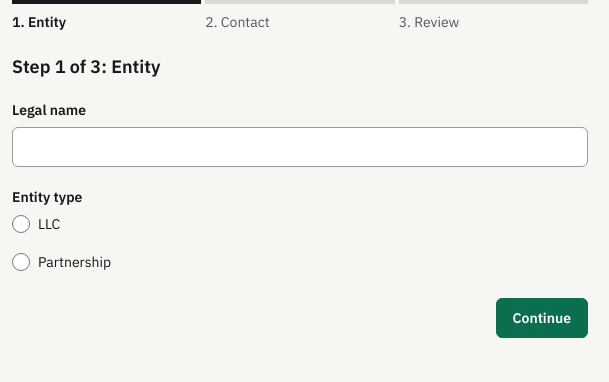
Test: WizardForm › validates on blur and clears the error once fixed
This screenshot has width=609, height=382.
Click the field labelled "Legal name". click: (300, 147)
box: [12,127,588,167]
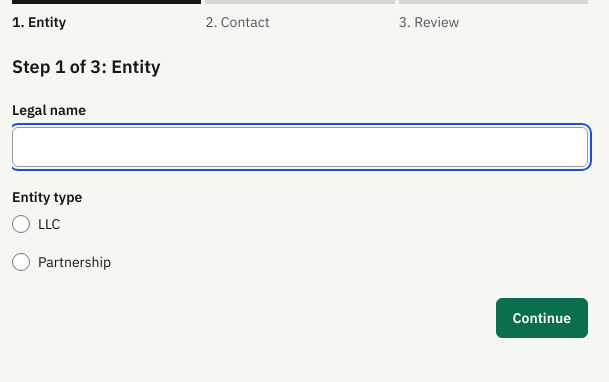
Press Tab
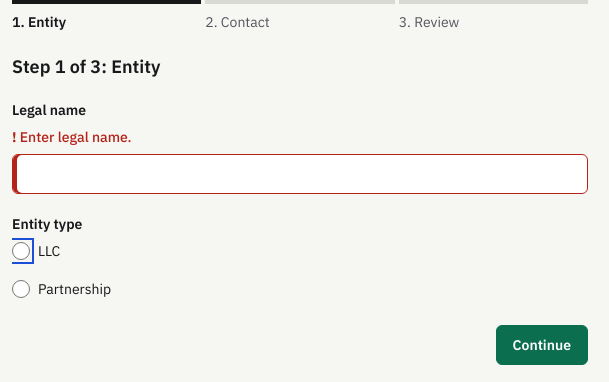
expect the text "Enter legal name." is shown: met, box [20,128,132,146]
Type "Cedar Ridge" into the field labelled "Legal name". click: (300, 174)
box: [12,154,588,194]
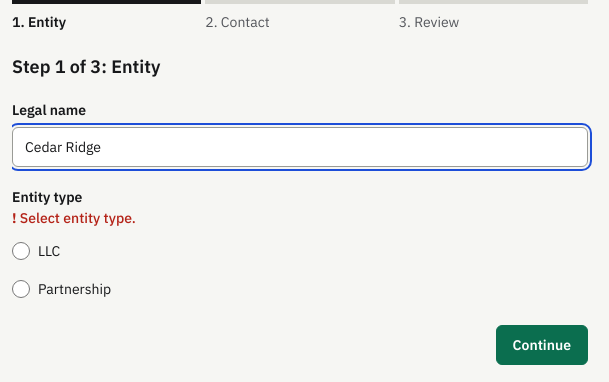
expect the text "Enter legal name." is gone: met
